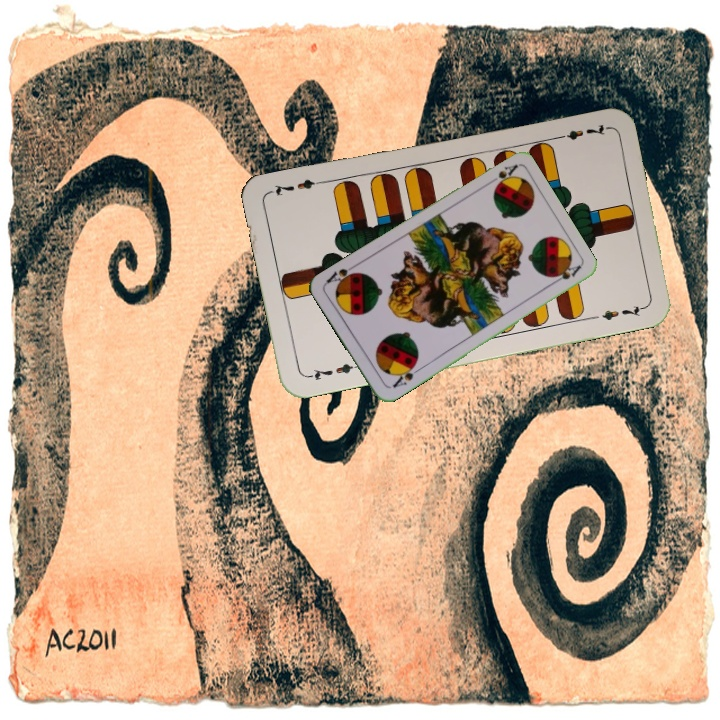E7: (303, 359, 362, 383), (551, 120, 609, 143)
SA: (483, 160, 520, 191), (388, 359, 423, 391)
